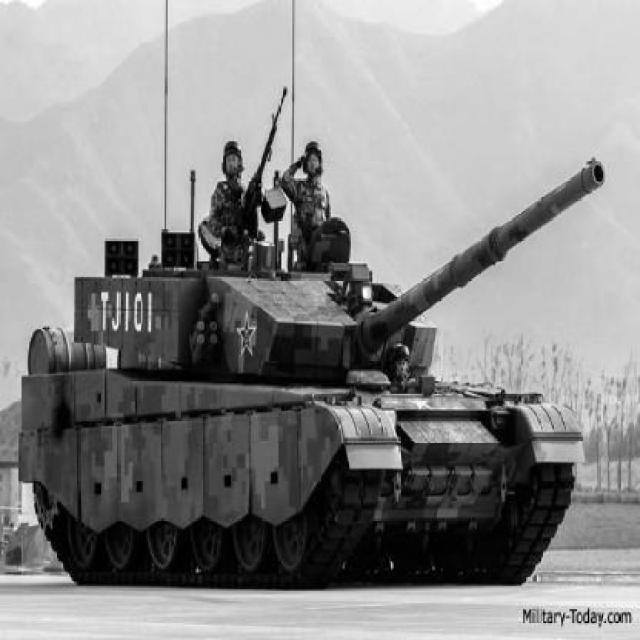Person: (206, 138, 266, 270), (279, 140, 332, 271)
Tank: (18, 153, 607, 589)
